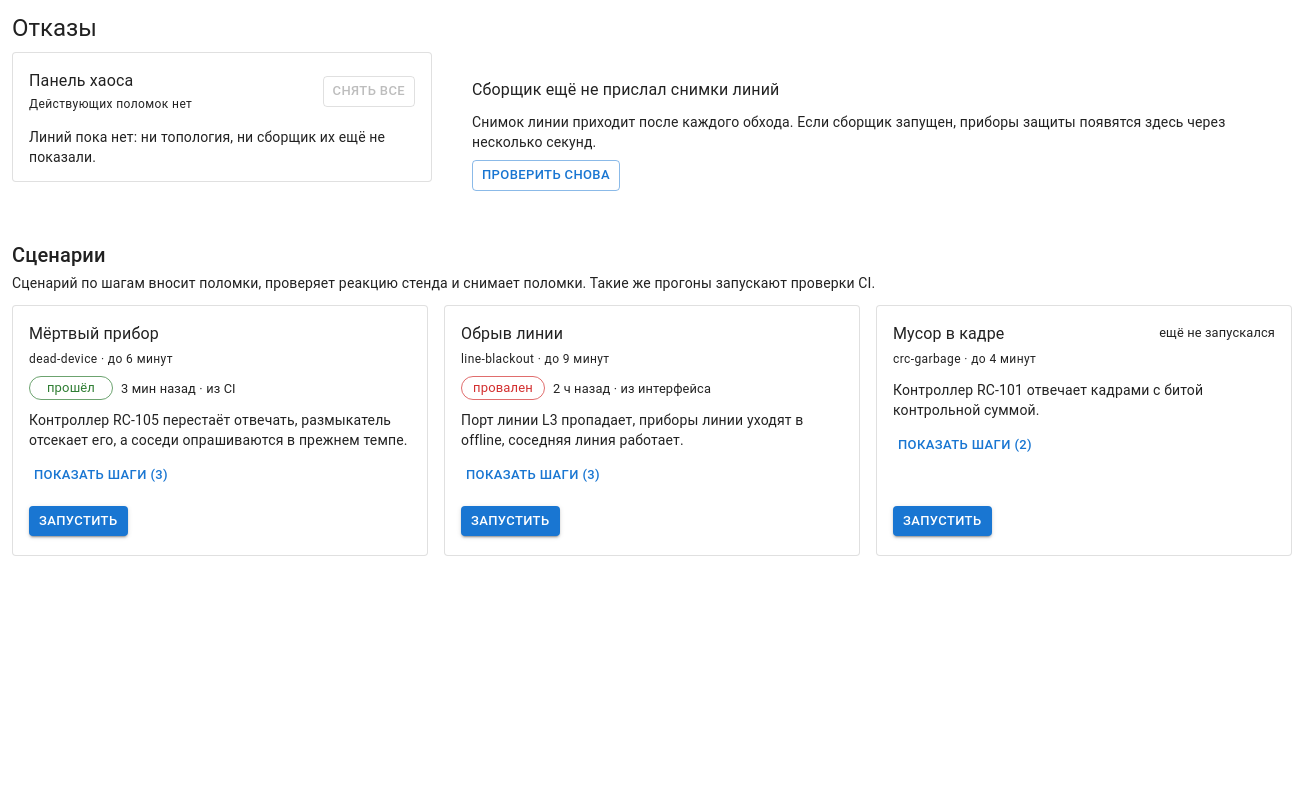
Scenario: сценарии стенда на экране отказов › карточки показывают описание, предел, шаги и бейджи последних прогонов
The image size is (1292, 812).
expect the text "Контроллер RC-105 перестаёт отвечать" is shown: met, box [29,412,408,448]
expect the text "dead-device · до 6 минут" is shown: met, box [29,352,173,366]
Click the button "Показать шаги (3)" below "3 мин назад" at (101, 476), box [29,460,173,491]
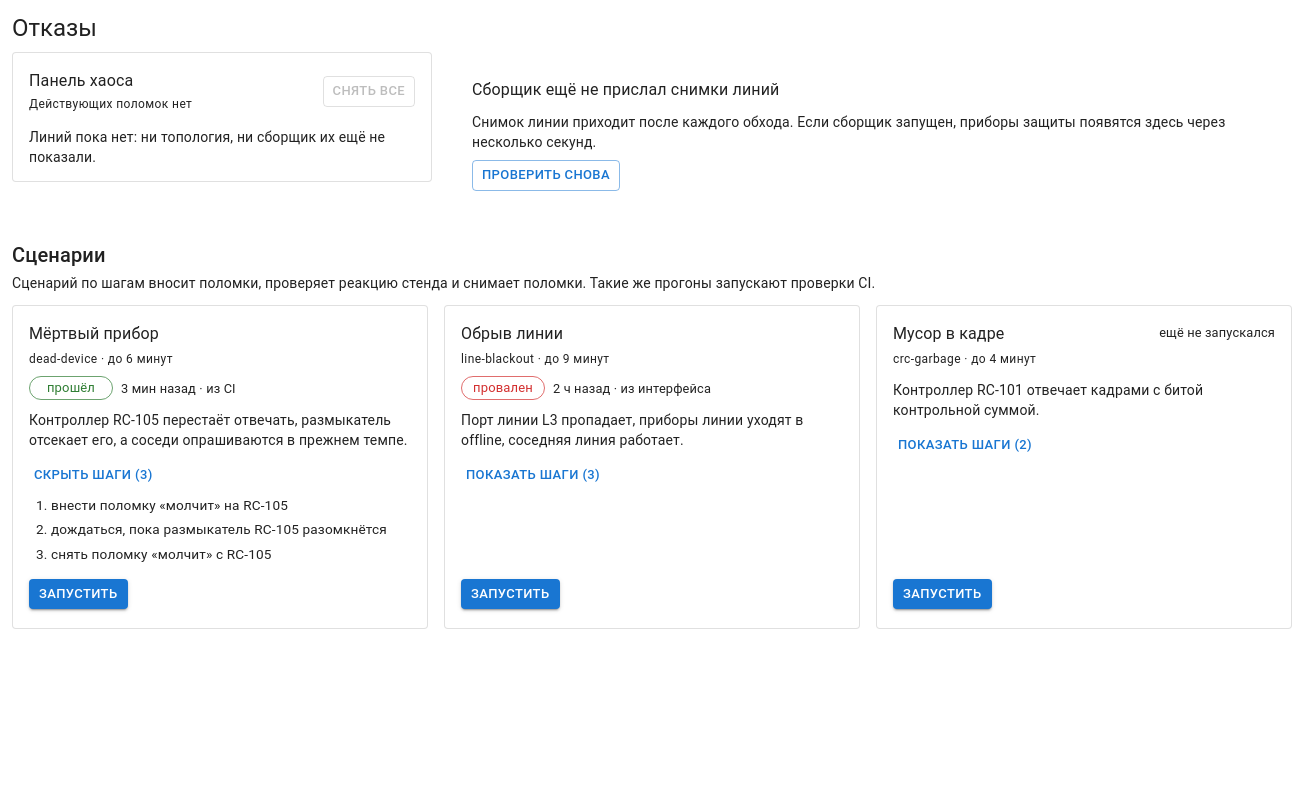
expect the text "line-blackout · до 9 минут" is shown: met, box [461,352,610,366]
expect the button named "Показать шаги (3)" is expanded: met, box [29,460,158,491]
expect the list items read "внести поломку «молчит» на RC-105", "дождаться, пока размыкатель RC-105 разомкнётся", "снять поломку «молчит» с RC-105", in this order: met, box [51,497,288,513]; [51,519,387,540]; [51,546,272,562]
